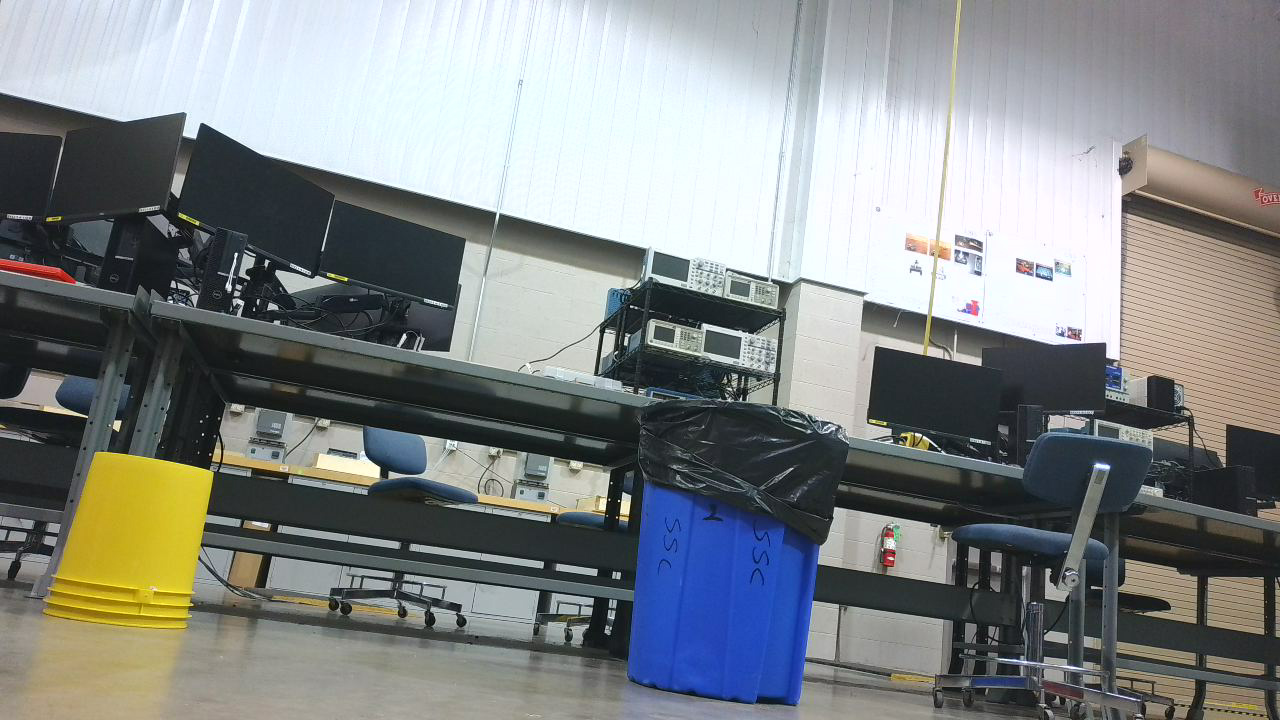yellow_bucket: (43, 448, 226, 641)
